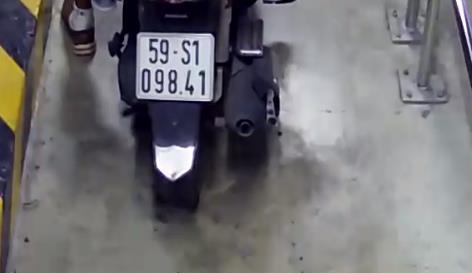lisence: (136, 32, 215, 102)
